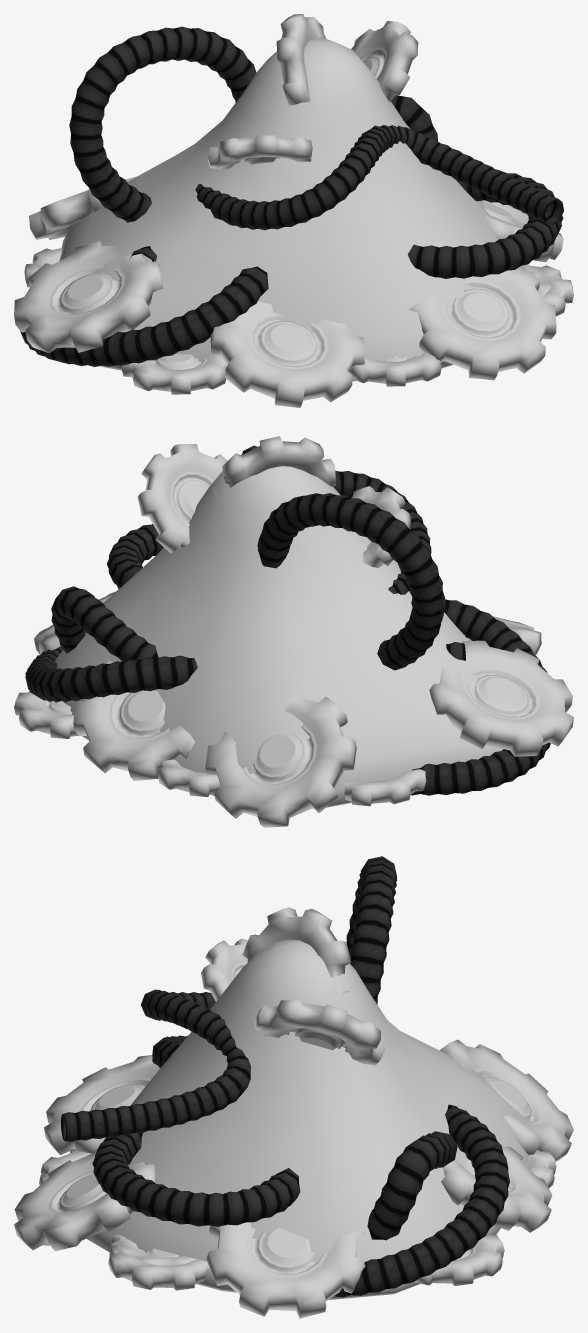
Rendered from cogPile_v2.fbx.
3 renders of one model, top to bottom at view 1: azimuth 30°, elevation 25°; view 2: azimuth 150°, elevation 25°; view 3: azimuth 270°, elevation 25°, orthographic. The views are drawn at different scales.
Parts seen in each view (by area): view 1: cogPile_v2; view 2: cogPile_v2; view 3: cogPile_v2.
Boxes of the visible parts, x1,y1,x2,y2 form: cogPile_v2: (14,14,573,407); cogPile_v2: (14,436,573,827); cogPile_v2: (14,856,573,1318).
Size of the model in its own units: 792 by 415 by 703.
